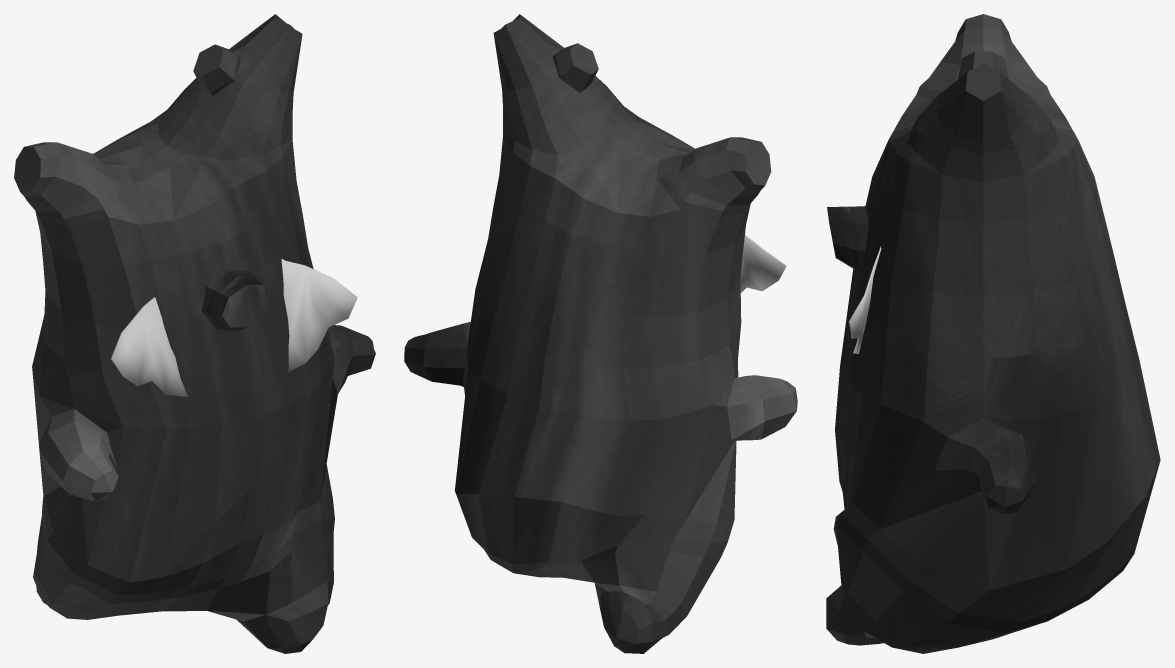
File: frame_0003.obj
3 renders of one model, left to right at view 1: azimuth 30°, elevation 25°; view 2: azimuth 150°, elevation 25°; view 3: azimuth 270°, elevation 25°, orthographic. The views are drawn at different scales.
Parts seen in each view (by area): view 1: korok, leaf, nose; view 2: korok, leaf; view 3: korok, nose, leaf.
Part boxes in pixels (x1,y1,x2,y2): korok: (14,14,375,653); leaf: (110,259,357,396); nose: (202,270,269,330); korok: (404,14,797,653); leaf: (740,234,786,292); korok: (826,14,1160,653); nose: (827,206,868,269); leaf: (848,246,881,353).
Size of the model in its own units: 1.55 by 2.37 by 1.18.
